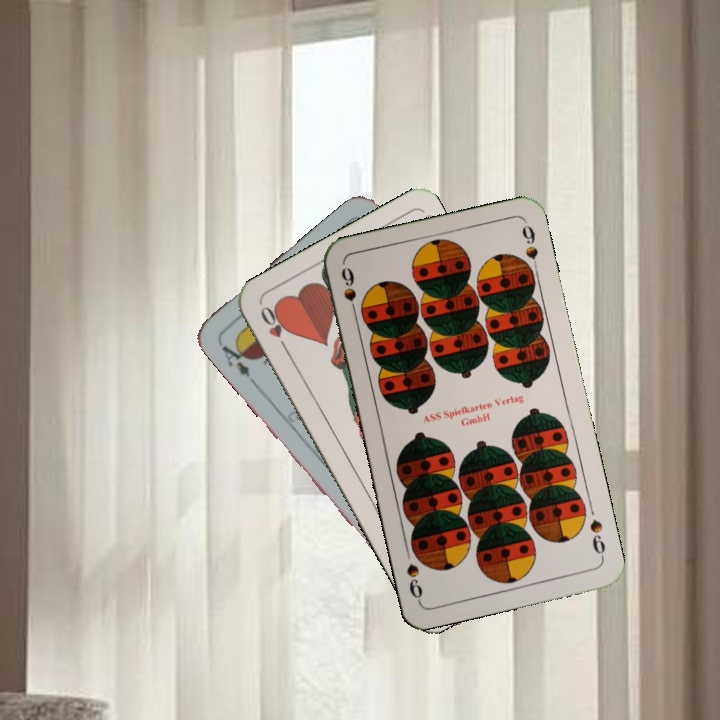EA: (215, 335, 254, 380)
HO: (256, 301, 291, 356)
S9: (337, 262, 360, 321), (585, 515, 608, 562)
